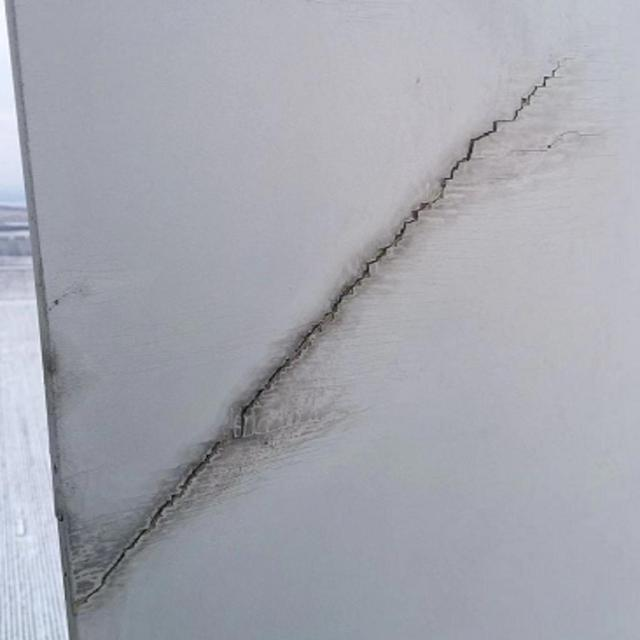crack: (88, 67, 558, 599)
